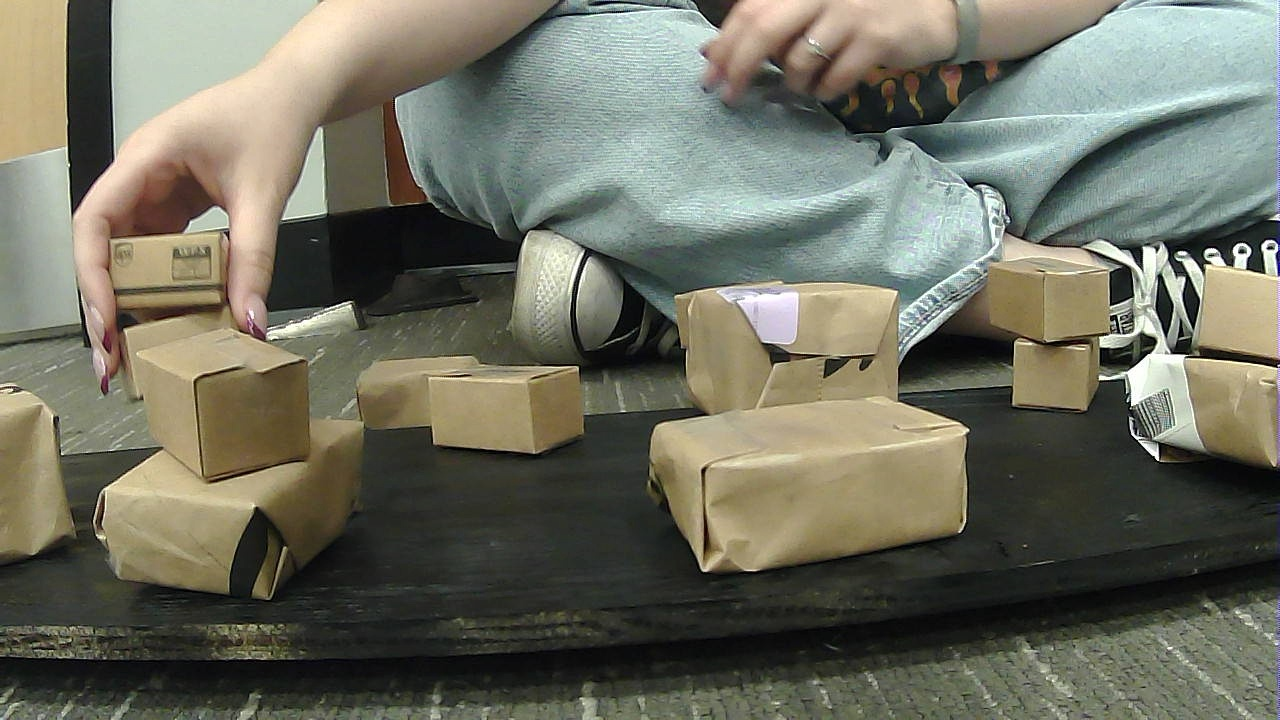package: (645, 420, 980, 570), (101, 424, 357, 593), (650, 272, 917, 409), (116, 315, 318, 465), (1131, 351, 1270, 470), (426, 373, 597, 468), (1, 388, 83, 566), (976, 258, 1111, 339), (104, 235, 223, 314), (1187, 262, 1275, 361), (363, 353, 472, 422), (1016, 341, 1101, 414)
stacked: (634, 272, 975, 571), (121, 325, 368, 595), (1133, 261, 1277, 470), (979, 252, 1106, 419)
